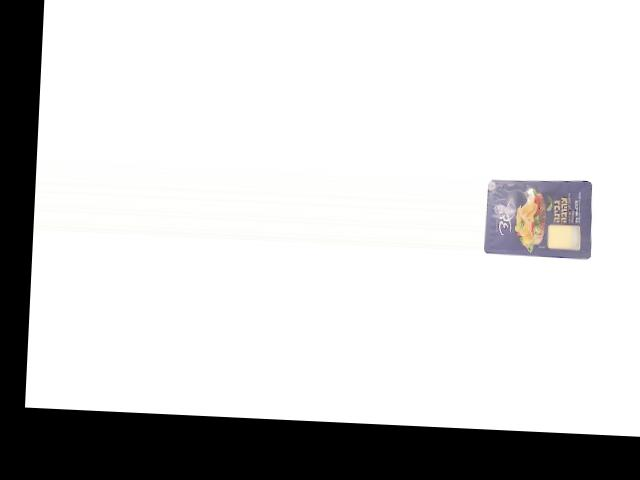cheese: (482, 173, 594, 259)
